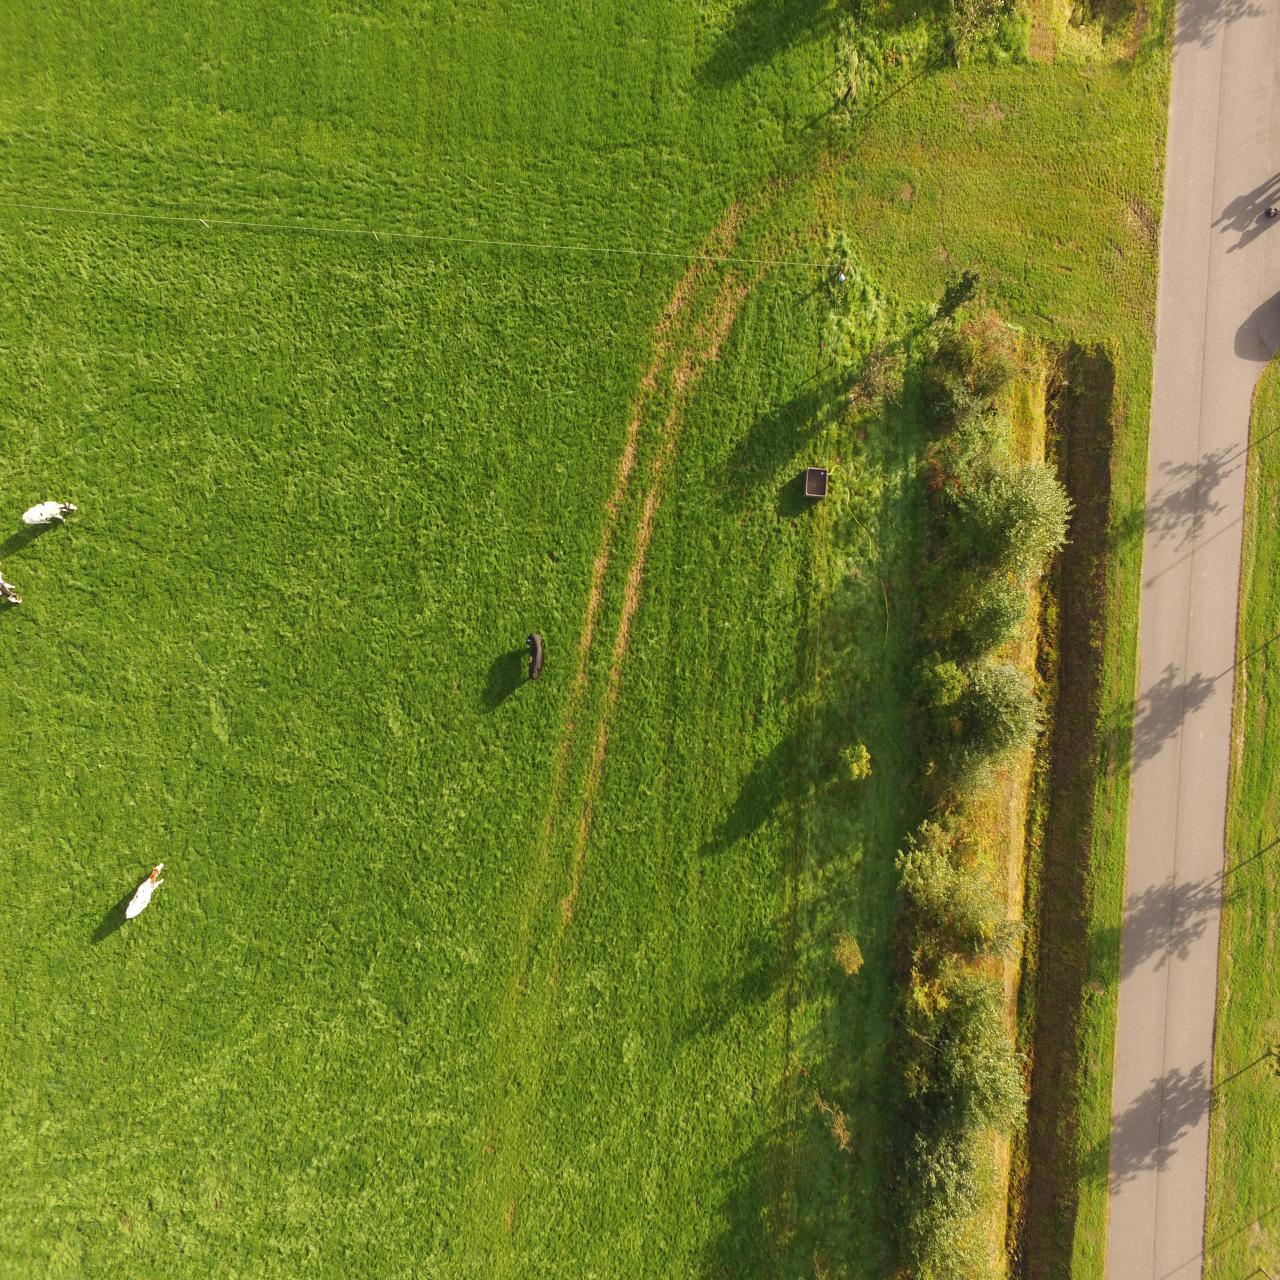cow: (123, 856, 169, 924), (18, 497, 79, 527), (522, 626, 547, 686)
